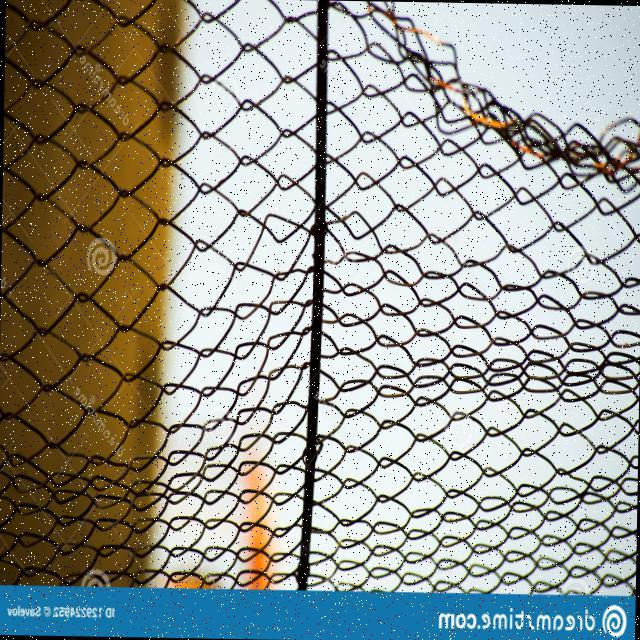fence line: (345, 6, 639, 266), (344, 7, 639, 264)
